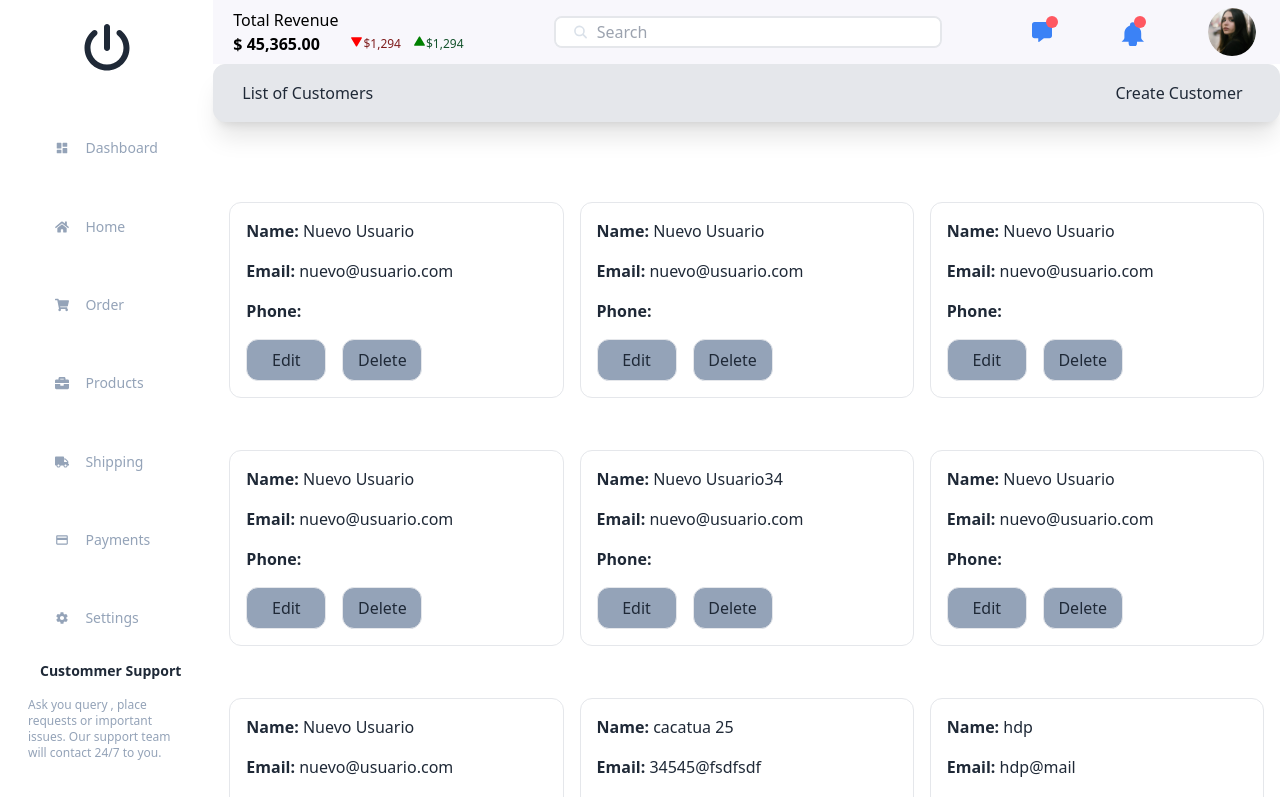
Test case: Testeando la app en general › Deveria verificar que funciona el modal de eliminar usuario
# Encuentra el primer botón de eliminar (puedes ajustar el selector según tu estructura HTML)
What coordinates should you click on to do the following:
click the 1st button "Delete"
I would click on:
 (382, 360)
Its box is x1=351 y1=348 x2=413 y2=372.
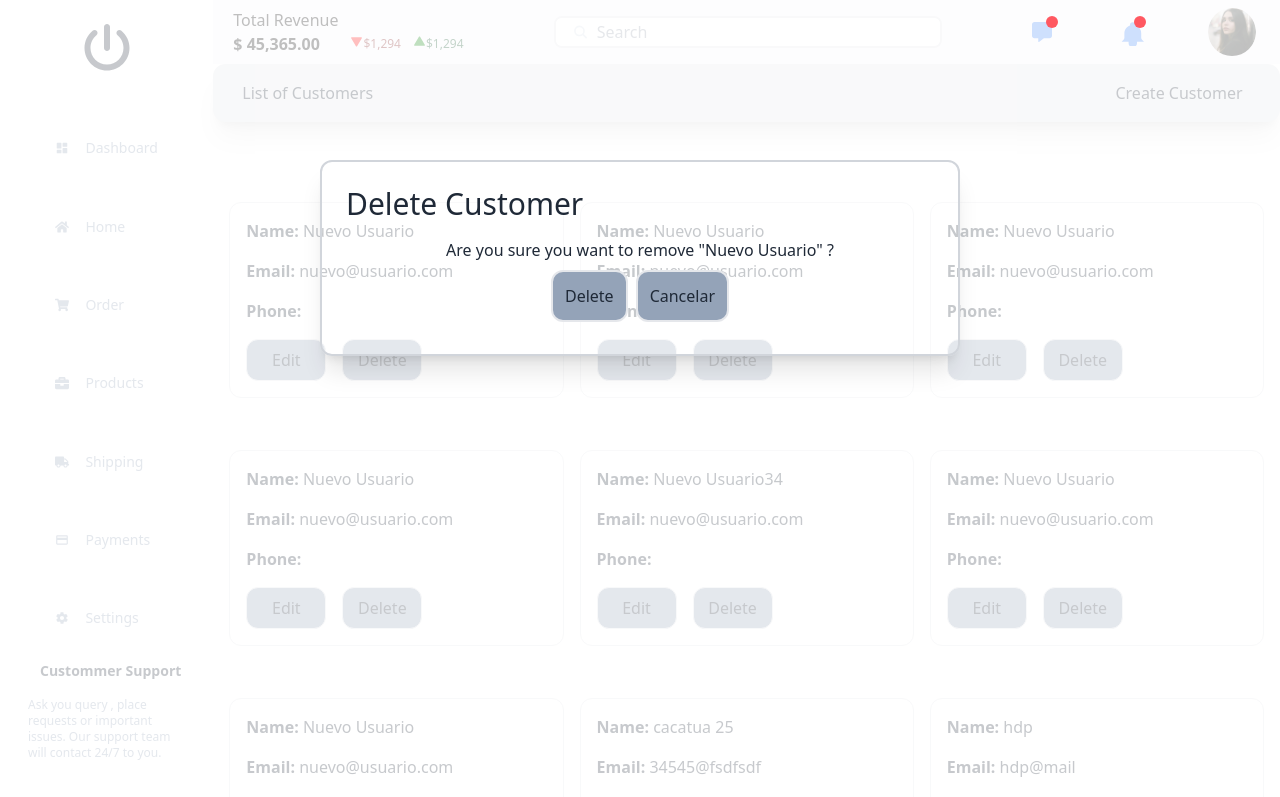
Expected: the element with test id "delete-user-modal" is shown, x1=543 y1=262 x2=737 y2=330
